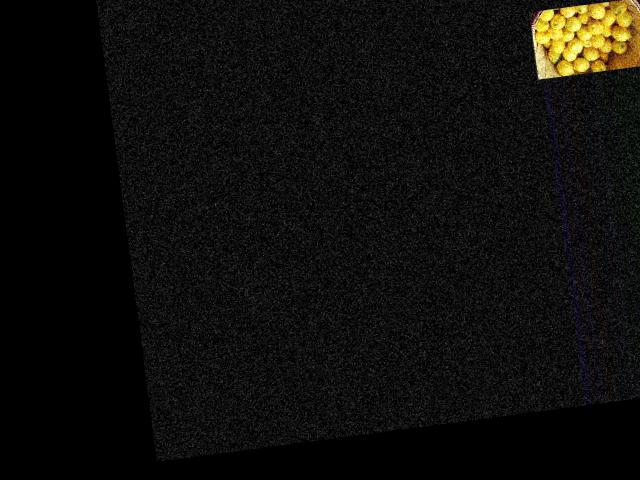lemon: (587, 56, 605, 71)
